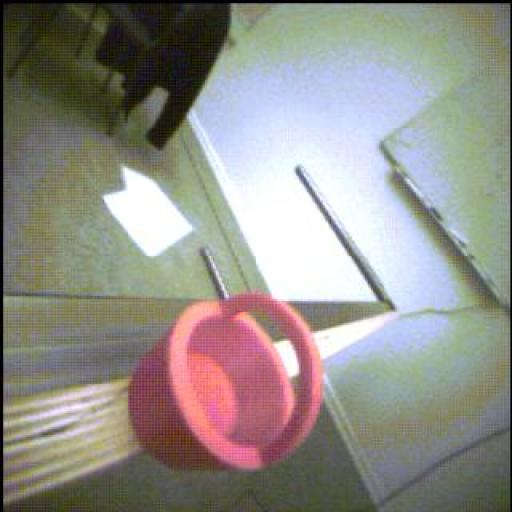Bucket: (116, 271, 340, 488)
